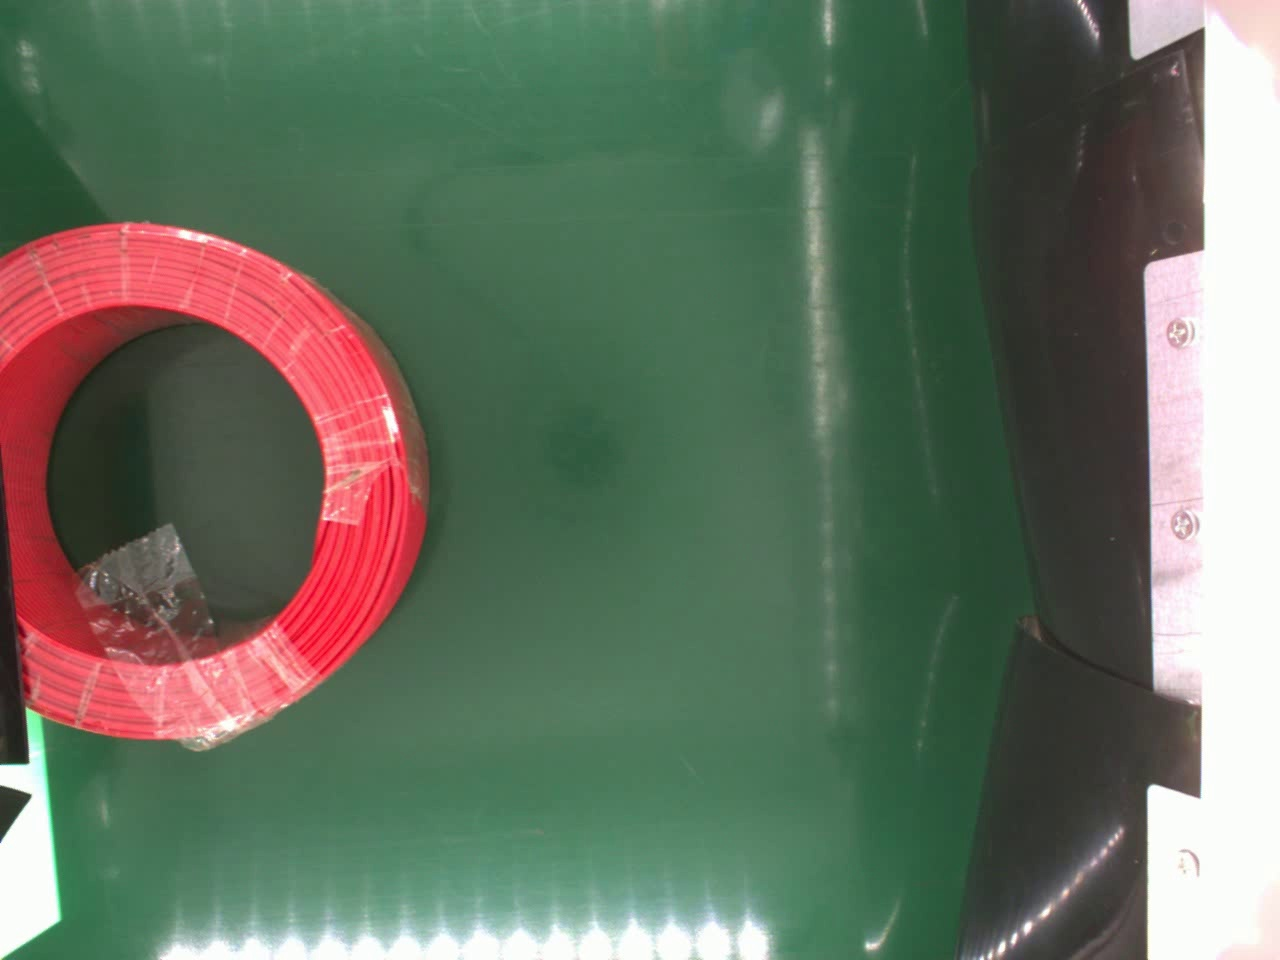red: (0, 215, 432, 745)
